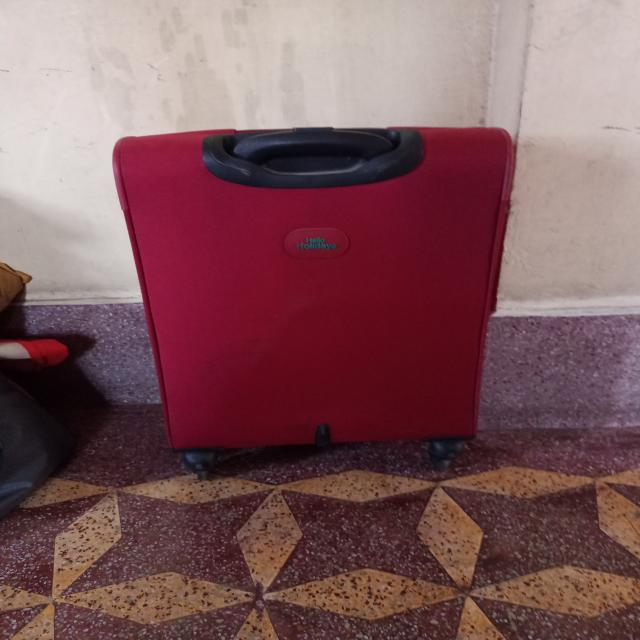luggage: (110, 127, 517, 457)
